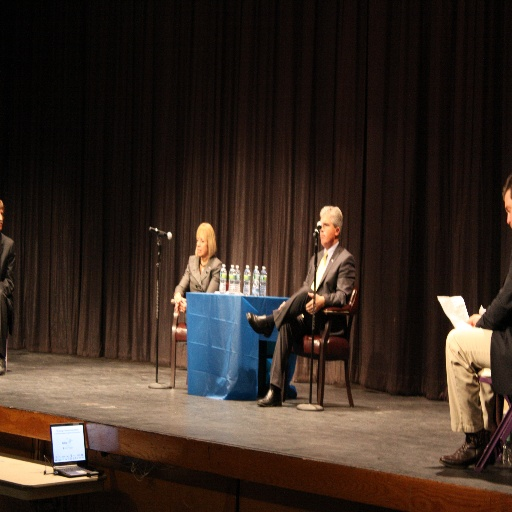hand: (305, 293, 324, 314), (466, 313, 480, 327), (174, 296, 182, 314), (178, 298, 186, 316), (277, 299, 285, 310)
